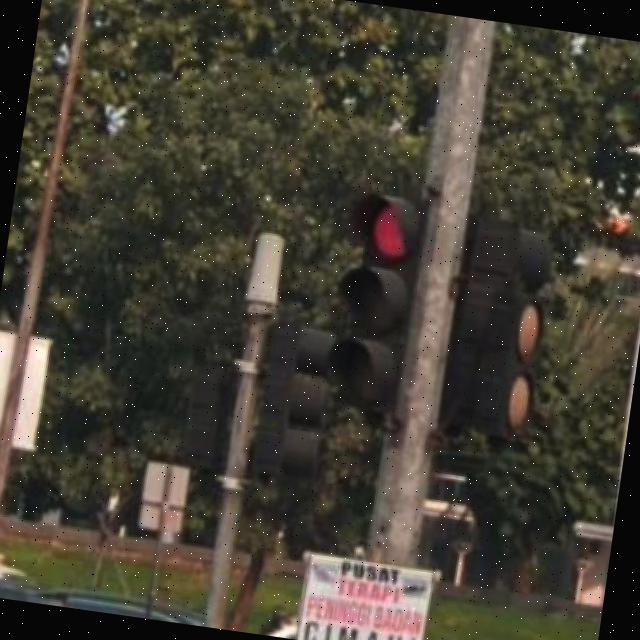Czerwone swiatlo: (326, 190, 427, 408)
